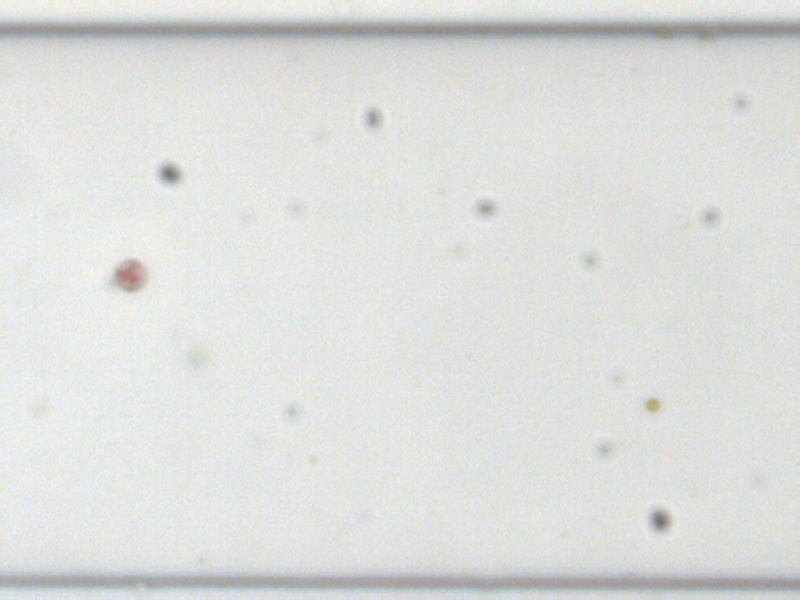Chlorella: (643, 398, 663, 412)
Porphyridium: (106, 256, 145, 294)
